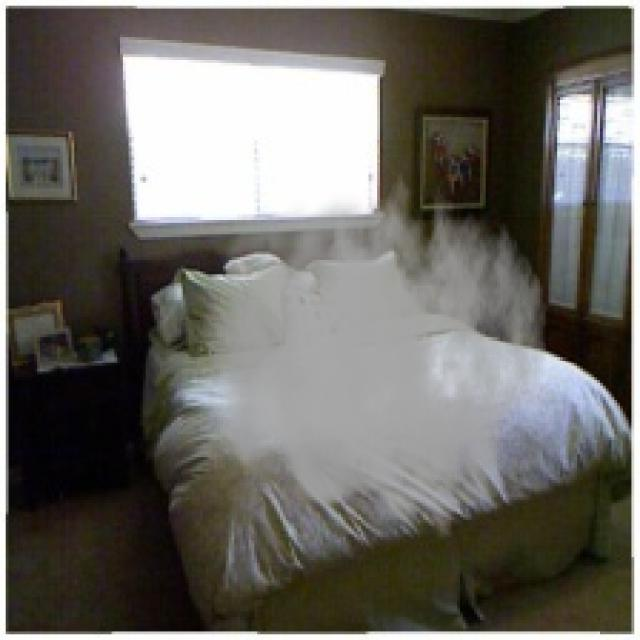smoke: (203, 154, 548, 540)
